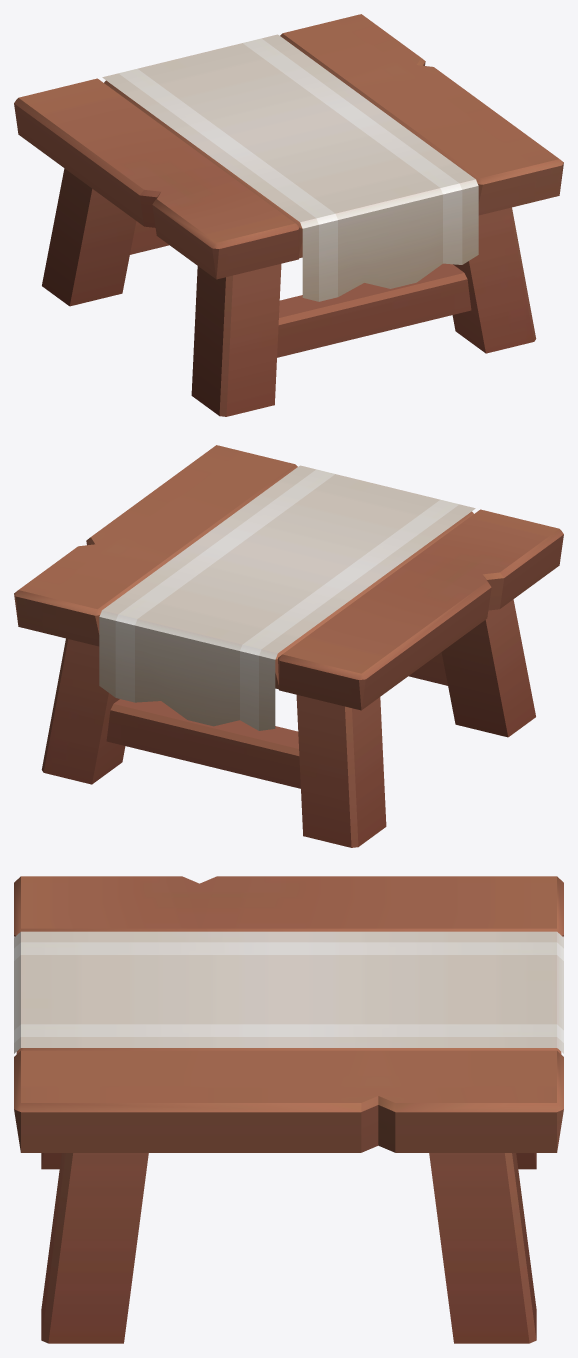
File: kaykit-dungeon-remastered-table-medium-tablecloth-gltf.glb
The picture shows the model from 3 angles, top to bottom: view 1: azimuth 30°, elevation 25°; view 2: azimuth 150°, elevation 25°; view 3: azimuth 270°, elevation 25°; orthographic projection. The views are drawn at different scales.
Parts seen in each view (by area): view 1: table_medium_tablecloth; view 2: table_medium_tablecloth; view 3: table_medium_tablecloth.
Boxes of the visible parts, left/top/right/bottom form: table_medium_tablecloth: left=14, top=14, right=563, bottom=416; table_medium_tablecloth: left=14, top=445, right=563, bottom=847; table_medium_tablecloth: left=14, top=876, right=563, bottom=1343.
Bounding box in the file's own units: 2 × 0.9998 × 2.
Materials: 1 (1 with a texture image).
